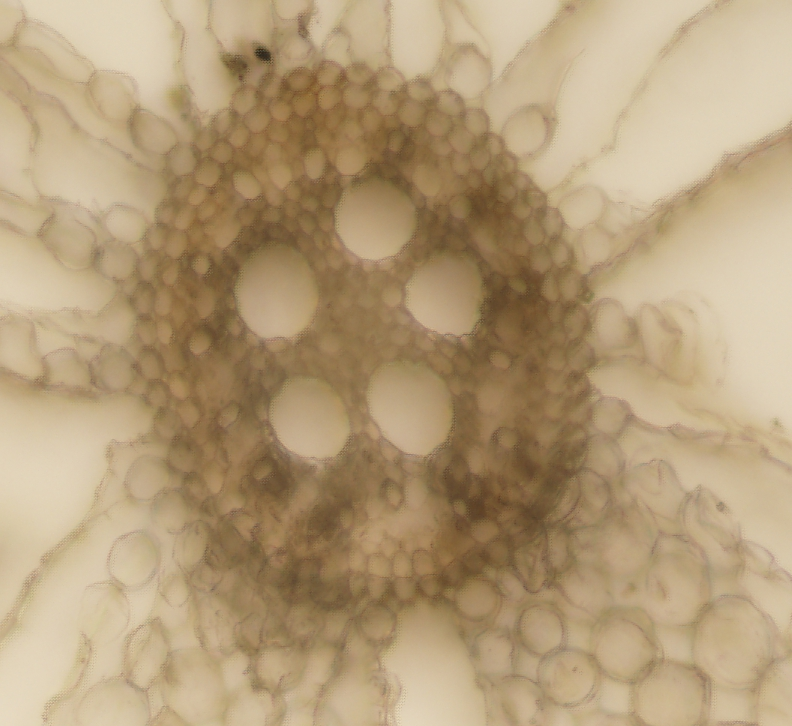lm: (364, 358, 456, 458), (233, 240, 320, 343), (404, 249, 487, 336), (333, 176, 419, 259), (267, 375, 352, 458)
